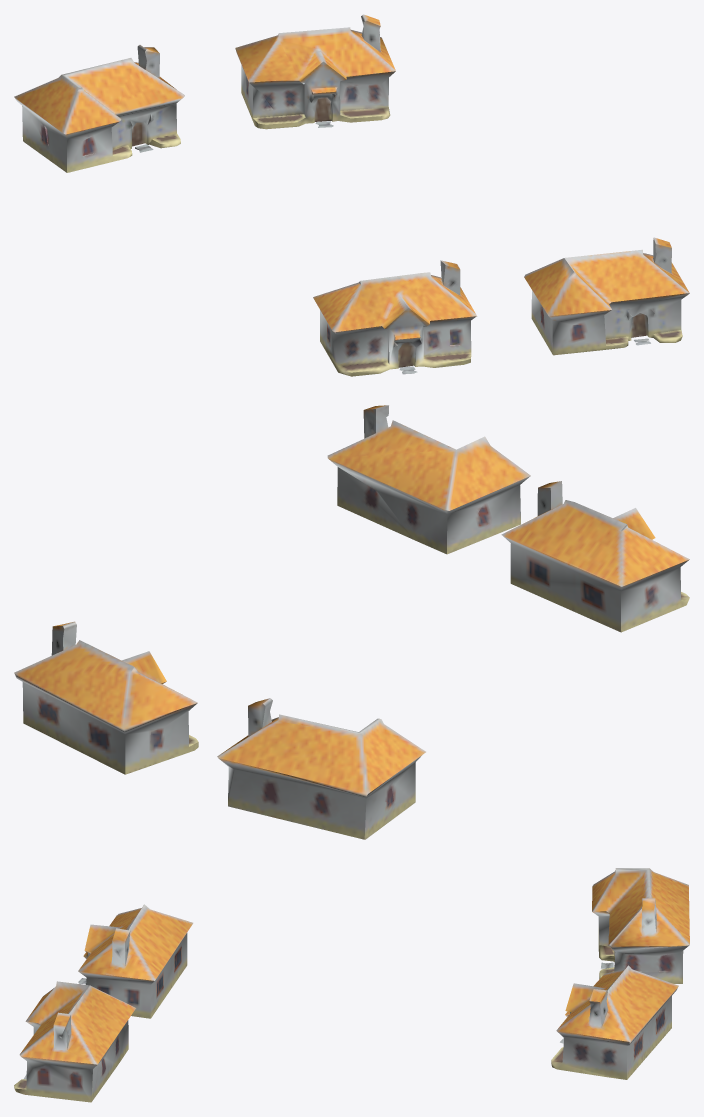
Rendered from clod_town_t02_clod_far000.gltf.
The picture shows the model from 3 angles, top to bottom: view 1: azimuth 30°, elevation 25°; view 2: azimuth 150°, elevation 25°; view 3: azimuth 270°, elevation 25°; orthographic projection. The views are drawn at different scales.
Parts seen in each view (by area): view 1: clod_town_t02_clod_far000_000_meshShape:remesh_mat; view 2: clod_town_t02_clod_far000_000_meshShape:remesh_mat; view 3: clod_town_t02_clod_far000_000_meshShape:remesh_mat.
Boxes of the visible parts, bbox=[...] form: clod_town_t02_clod_far000_000_meshShape:remesh_mat: bbox=[14, 14, 689, 376]; clod_town_t02_clod_far000_000_meshShape:remesh_mat: bbox=[14, 405, 689, 839]; clod_town_t02_clod_far000_000_meshShape:remesh_mat: bbox=[14, 868, 689, 1102].
Size of the model in its own units: 33.46 by 9.58 by 59.2.
1 material, 1 textured.
